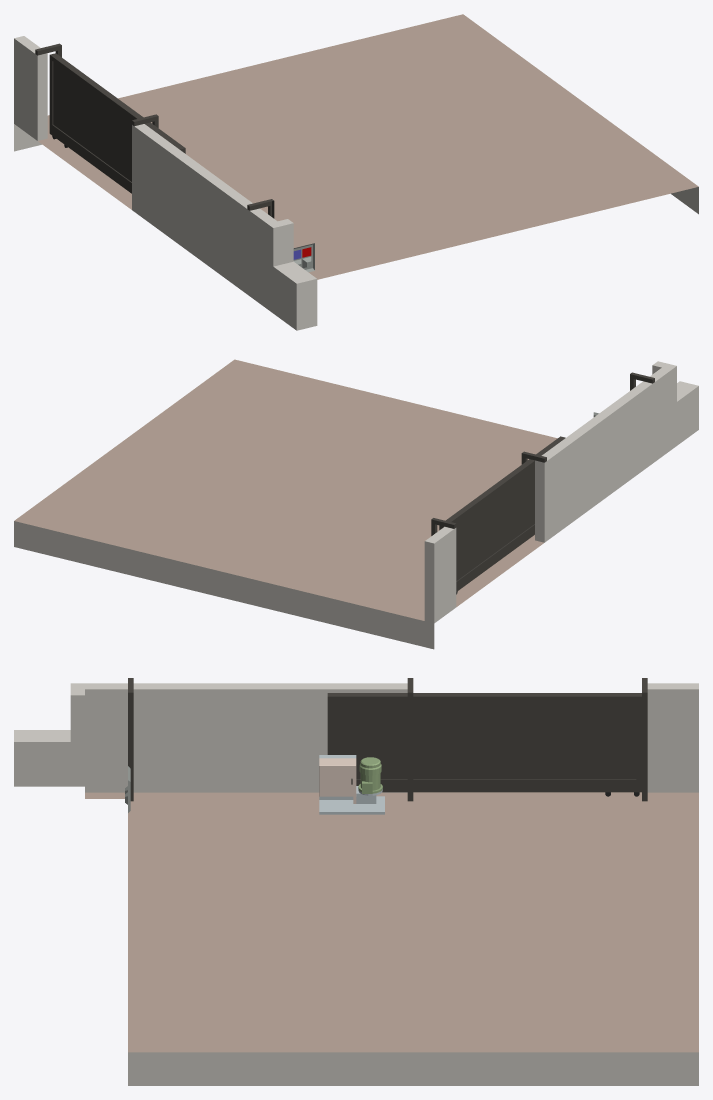
File: GateMotorRoom.fbx
3 renders of one model, top to bottom at view 1: azimuth 30°, elevation 25°; view 2: azimuth 150°, elevation 25°; view 3: azimuth 270°, elevation 25°, orthographic. The views are drawn at different scales.
Visible parts, largest first — view 1: GateMotorWalls, MotorGateWall, MotorGate, PowerOutletB; view 2: GateMotorWalls, MotorGateWall, MotorGate; view 3: GateMotorWalls, MotorGateWall, MotorGate, GateMotor, GateMotorDoor.
Boxes of the visible parts, <box> form: GateMotorWalls: <box>14,14,698,279</box>; MotorGateWall: <box>14,36,317,330</box>; MotorGate: <box>49,53,185,193</box>; PowerOutletB: <box>293,243,314,272</box>; GateMotorWalls: <box>14,359,557,649</box>; MotorGateWall: <box>424,361,698,623</box>; MotorGate: <box>439,436,565,594</box>; GateMotorWalls: <box>85,792,698,1085</box>; MotorGateWall: <box>14,678,698,801</box>; MotorGate: <box>327,693,641,796</box>; GateMotor: <box>319,755,384,814</box>; GateMotorDoor: <box>319,764,356,796</box>.
Bounding box in the file's own units: 22 × 5.5 × 23.99.
Materials: 1 (1 with a texture image).
